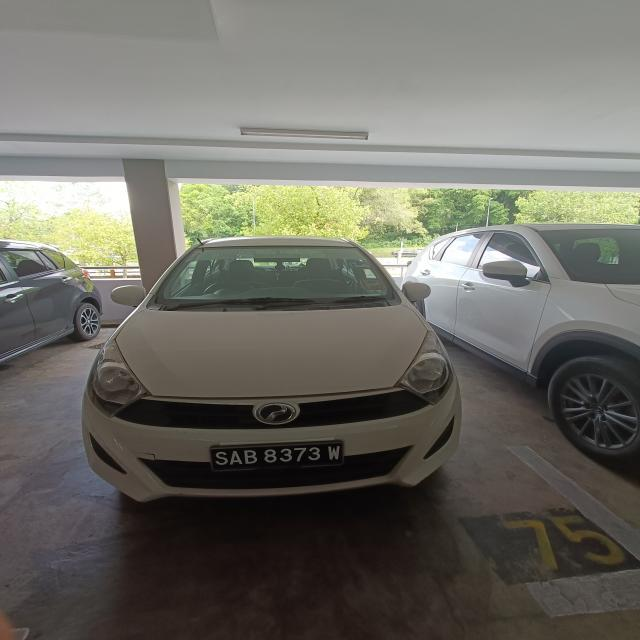PeroduaAxia: (80, 234, 464, 504)
